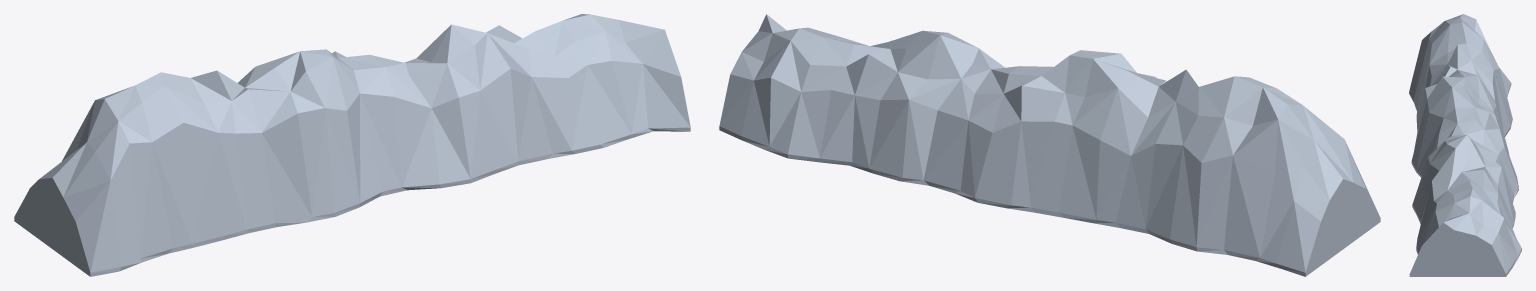
Rendered from Mush_Track_Snowbank_LowPoly.obj.
3 renders of one model, left to right at view 1: azimuth 30°, elevation 25°; view 2: azimuth 150°, elevation 25°; view 3: azimuth 270°, elevation 25°, orthographic. The views are drawn at different scales.
Parts seen in each view (by area): view 1: Mush_Track_Snowbank_LowPoly; view 2: Mush_Track_Snowbank_LowPoly; view 3: Mush_Track_Snowbank_LowPoly.
Boxes of the visible parts, left/top/right/bottom form: Mush_Track_Snowbank_LowPoly: left=14, top=14, right=690, bottom=276; Mush_Track_Snowbank_LowPoly: left=719, top=14, right=1380, bottom=276; Mush_Track_Snowbank_LowPoly: left=1409, top=14, right=1521, bottom=276.
Size of the model in its own units: 12 by 2.86 by 2.98.
